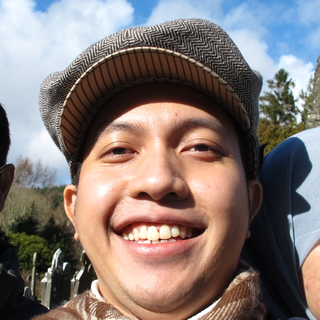eye: (177, 139, 225, 162), (98, 141, 142, 165)
